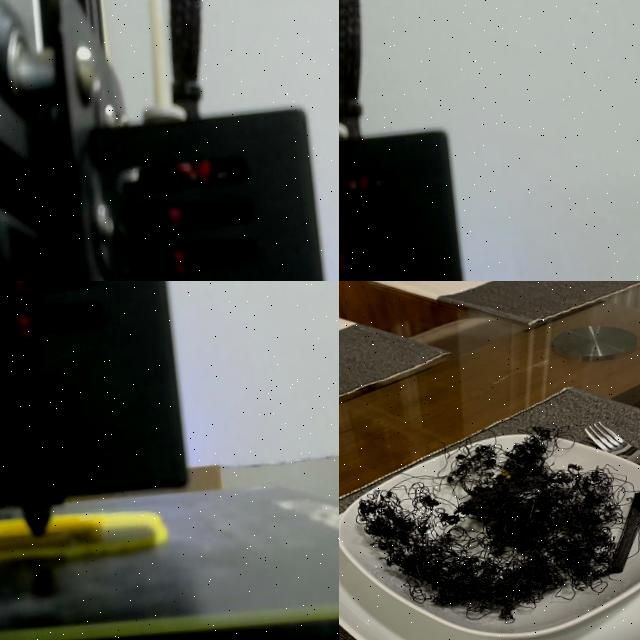spaghetti: (339, 420, 640, 640)
